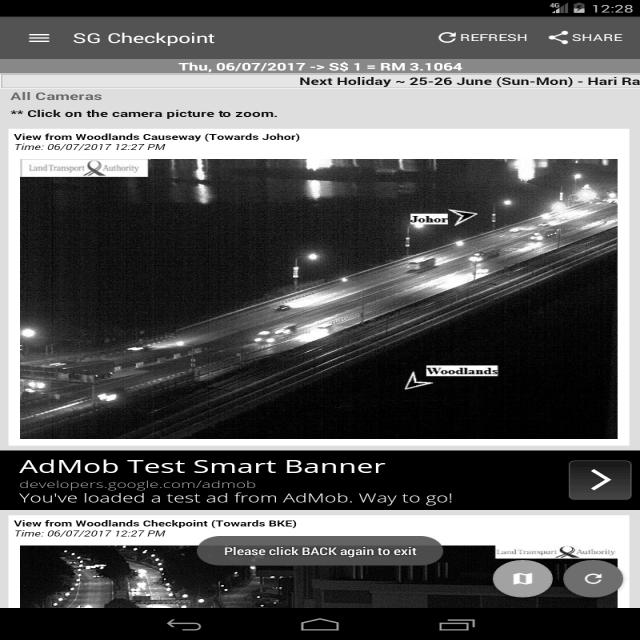Button: (558, 458, 632, 504)
ImageButton: (562, 560, 622, 594), (538, 24, 570, 47), (19, 26, 56, 45), (428, 26, 458, 44)
ImageView: (25, 173, 606, 437), (30, 564, 468, 603)
TextView: (16, 455, 470, 507), (13, 130, 312, 152), (12, 517, 304, 535), (293, 73, 630, 88), (210, 543, 425, 559), (181, 59, 456, 70), (70, 29, 206, 47), (10, 86, 111, 104)
